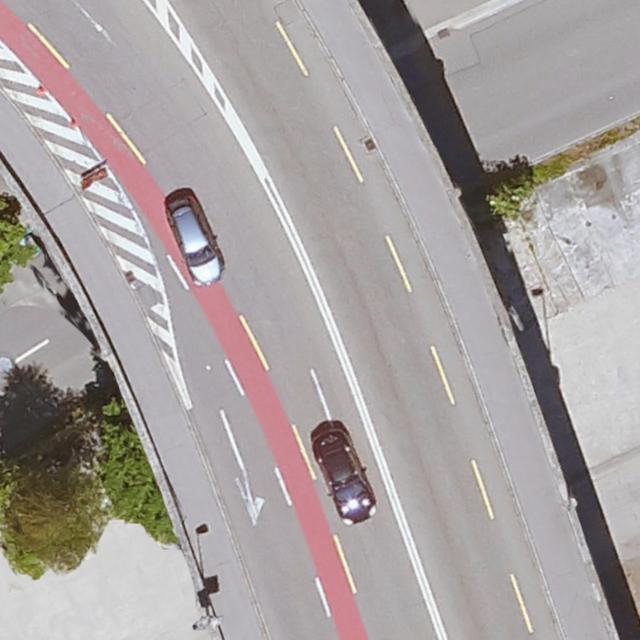tree: (4, 471, 105, 567), (100, 419, 163, 518), (0, 215, 34, 302), (483, 180, 530, 221)
